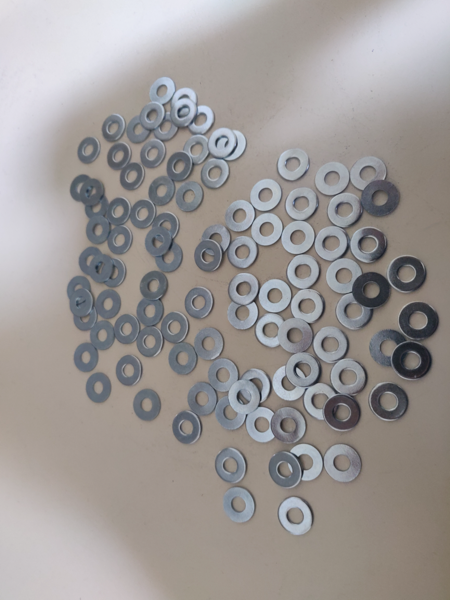circle: (322, 441, 364, 486), (368, 382, 411, 424), (391, 341, 432, 382), (398, 301, 439, 341), (369, 328, 409, 368), (323, 393, 362, 433), (388, 255, 427, 294), (286, 443, 324, 483), (302, 382, 341, 420), (353, 271, 391, 309), (330, 358, 368, 396), (362, 181, 401, 218), (350, 227, 390, 263), (328, 191, 365, 229), (278, 497, 314, 536), (313, 325, 349, 363), (337, 291, 372, 330), (269, 452, 304, 490), (327, 258, 363, 294), (278, 319, 315, 354), (214, 447, 248, 485), (315, 227, 353, 261), (350, 157, 388, 191), (223, 487, 256, 526), (286, 253, 321, 289), (238, 369, 273, 405), (286, 353, 321, 389), (292, 286, 326, 323), (316, 161, 351, 196), (285, 186, 320, 221), (272, 366, 307, 401), (133, 325, 168, 360), (245, 407, 279, 443), (250, 214, 288, 246), (282, 220, 316, 255), (214, 396, 249, 430), (228, 380, 262, 415), (254, 314, 289, 348), (208, 357, 241, 393), (272, 409, 306, 443), (223, 201, 258, 234), (228, 273, 261, 307), (225, 237, 259, 270), (259, 278, 291, 313), (249, 179, 282, 212), (226, 299, 260, 331), (278, 148, 310, 181), (187, 382, 218, 416), (132, 389, 161, 424), (114, 354, 143, 389), (200, 225, 230, 258), (161, 312, 190, 346), (173, 411, 202, 444), (185, 286, 213, 320), (84, 371, 112, 405), (154, 242, 184, 273), (200, 158, 230, 189), (185, 105, 216, 135), (168, 343, 197, 375), (208, 128, 237, 160), (145, 225, 173, 258), (153, 210, 180, 244), (195, 239, 221, 274), (218, 132, 248, 162), (194, 328, 222, 360), (176, 181, 203, 214), (101, 256, 128, 289), (139, 271, 169, 300), (89, 320, 116, 351), (183, 134, 210, 165), (73, 342, 99, 374), (96, 289, 122, 321), (171, 88, 199, 117), (113, 314, 140, 344), (137, 297, 164, 327), (170, 98, 197, 128), (126, 113, 152, 144), (70, 287, 96, 318), (155, 109, 179, 142), (148, 77, 176, 105), (149, 177, 176, 206), (108, 225, 134, 255), (88, 255, 114, 285), (77, 248, 104, 276), (119, 162, 145, 191), (86, 216, 112, 245), (131, 199, 156, 229), (107, 142, 132, 172), (73, 302, 98, 332), (140, 141, 166, 169), (84, 193, 110, 221), (65, 276, 91, 304), (168, 152, 192, 181), (80, 177, 104, 206), (107, 198, 132, 225), (140, 102, 165, 129), (77, 137, 101, 165), (70, 175, 94, 203), (102, 115, 125, 142)
